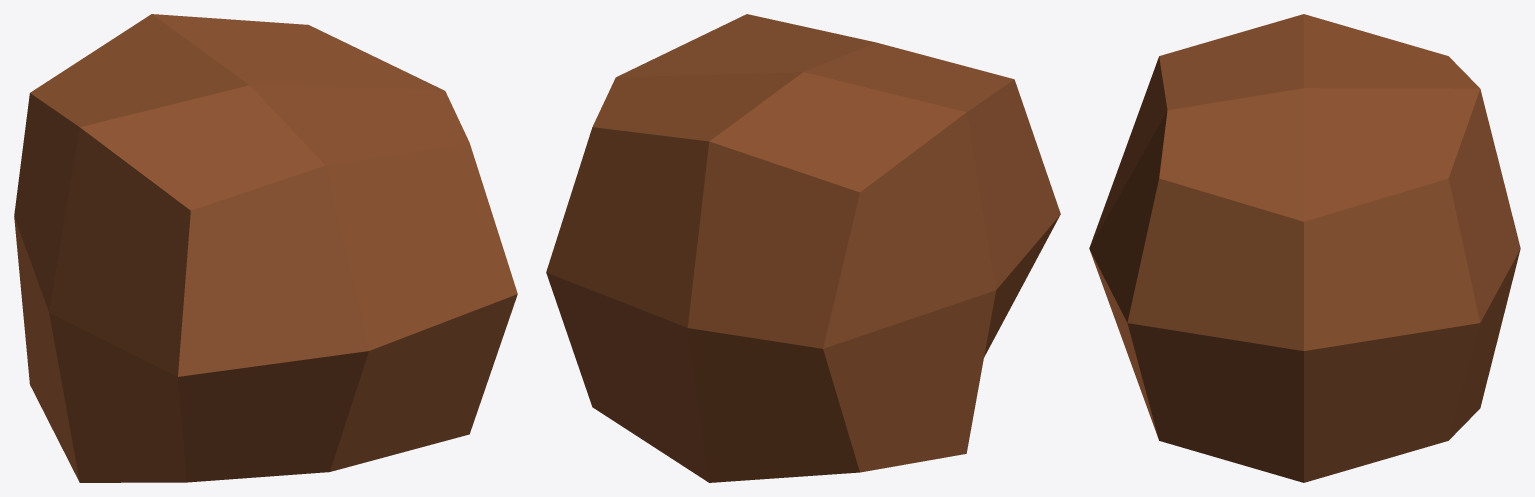
Rendered from Roca.fbx.
The picture shows the model from 3 angles, left to right: view 1: azimuth 30°, elevation 25°; view 2: azimuth 150°, elevation 25°; view 3: azimuth 270°, elevation 25°; orthographic projection. The views are drawn at different scales.
Parts seen in each view (by area): view 1: Cube; view 2: Cube; view 3: Cube.
Boxes of the visible parts, x1=… form: Cube: x1=14, y1=14, x2=517, y2=482; Cube: x1=546, y1=14, x2=1060, y2=482; Cube: x1=1089, y1=14, x2=1520, y2=482.
Bounding box in the file's own units: 942 × 796 × 901.
